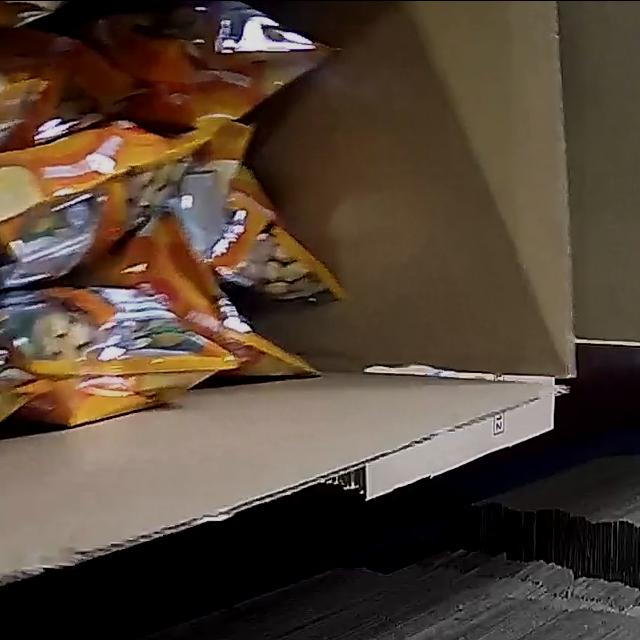cheese: (0, 0, 364, 461)
